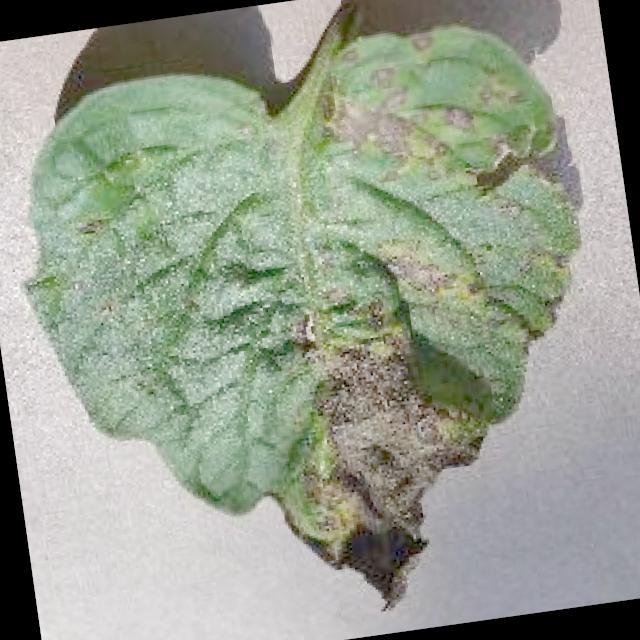Tomato Early blight leaf: (2, 7, 625, 640)
